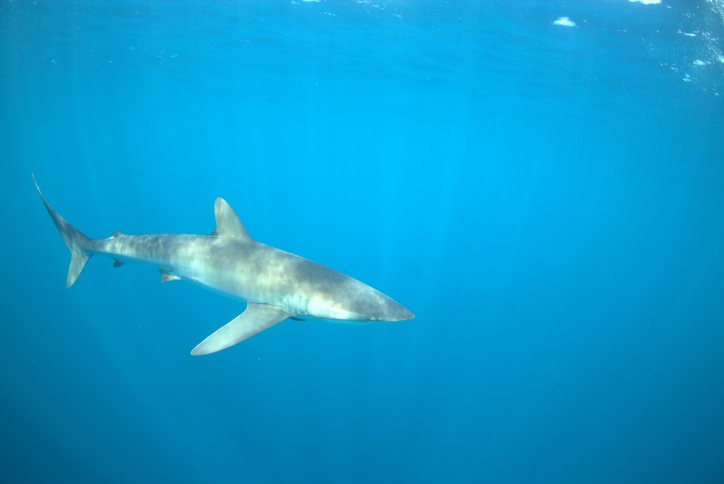Sedoso: (10, 162, 418, 359)
